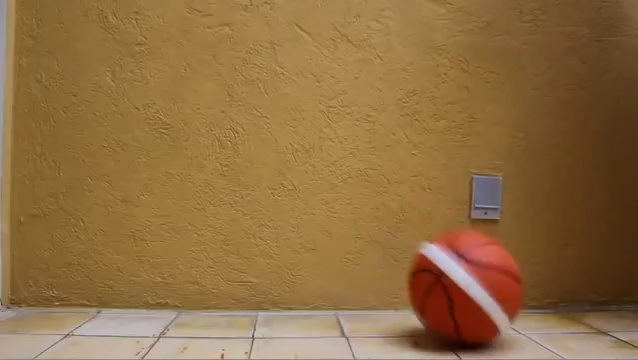ball: (409, 227, 527, 348)
